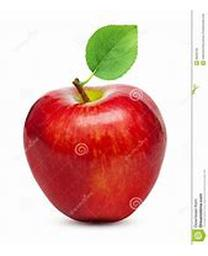apple: (22, 79, 167, 222)
